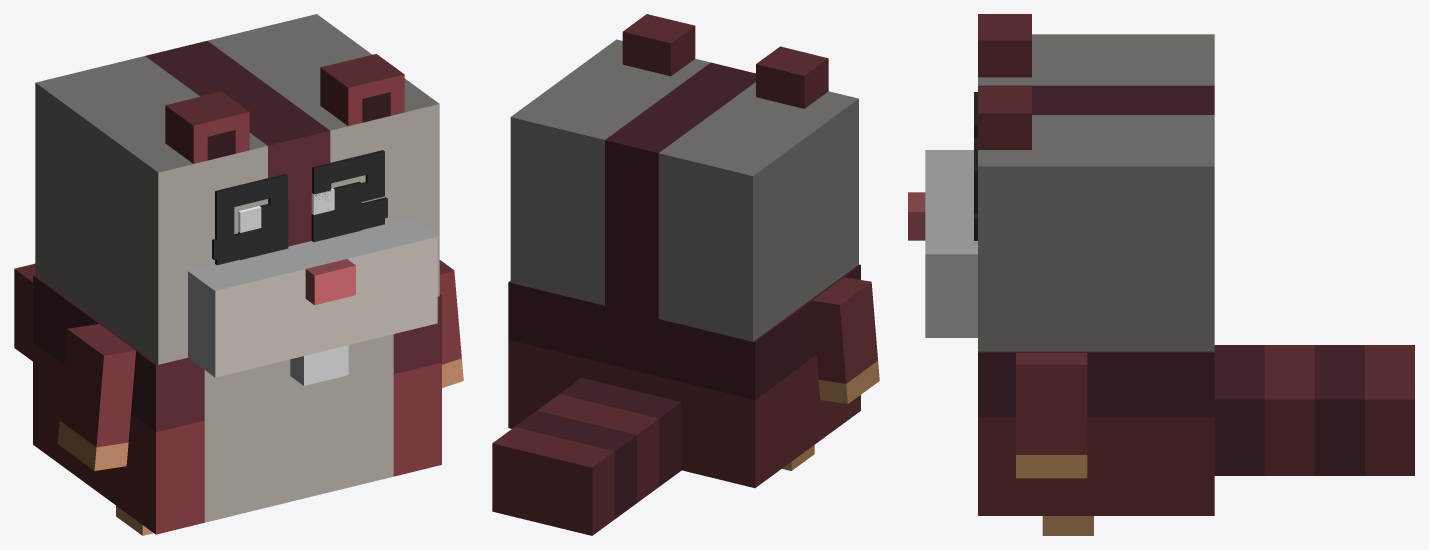
The picture shows the model from 3 angles, left to right: view 1: azimuth 30°, elevation 25°; view 2: azimuth 150°, elevation 25°; view 3: azimuth 270°, elevation 25°; orthographic projection. The views are drawn at different scales.
Visible parts, largest first — view 1: Ch_184_Head, Ch_184, Ch_184_Arm_L, Ch_184_Eye_01, Ch_184_Eye_03_R, Ch_184_Eye_03_L, Ch_184_Arm_R, Ch_184_Tail, Ch_184_Eye_02; view 2: Ch_184_Head, Ch_184, Ch_184_Tail, Ch_184_Arm_L; view 3: Ch_184_Head, Ch_184, Ch_184_Tail, Ch_184_Arm_R, Ch_184_Leg_R.
Part boxes in pixels (bbox=[...]): Ch_184_Head: bbox=[35, 14, 439, 385]; Ch_184: bbox=[33, 275, 441, 534]; Ch_184_Arm_L: bbox=[57, 324, 135, 470]; Ch_184_Eye_01: bbox=[238, 181, 361, 259]; Ch_184_Eye_03_R: bbox=[312, 150, 384, 229]; Ch_184_Eye_03_L: bbox=[215, 174, 287, 265]; Ch_184_Arm_R: bbox=[439, 260, 463, 387]; Ch_184_Tail: bbox=[14, 263, 35, 361]; Ch_184_Eye_02: bbox=[212, 197, 387, 259]; Ch_184_Head: bbox=[510, 14, 858, 341]; Ch_184: bbox=[508, 264, 860, 487]; Ch_184_Tail: bbox=[492, 378, 681, 535]; Ch_184_Arm_L: bbox=[812, 277, 879, 404]; Ch_184_Head: bbox=[908, 14, 1214, 351]; Ch_184: bbox=[978, 351, 1214, 515]; Ch_184_Tail: bbox=[1214, 345, 1414, 475]; Ch_184_Arm_R: bbox=[1016, 353, 1087, 478]; Ch_184_Leg_R: bbox=[1042, 516, 1093, 535].
Size of the model in its own units: 8.7 by 9.69 by 10.73.
